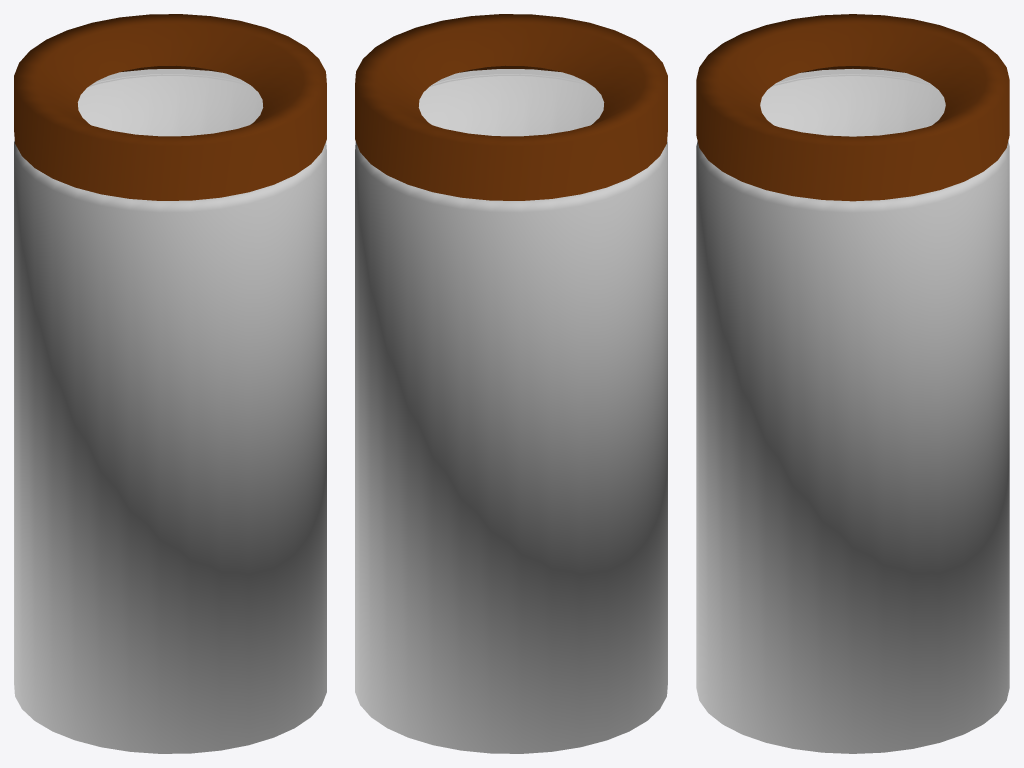
Rendered from lixeira organico.fbx.
3 views of the same model, side by side, from view 1: azimuth 30°, elevation 25°; view 2: azimuth 150°, elevation 25°; view 3: azimuth 270°, elevation 25° (orthographic).
Visible parts, largest first — view 1: Cylinder; view 2: Cylinder; view 3: Cylinder.
Part boxes in pixels (x1,y1,x2,y2): Cylinder: [14, 14, 326, 753]; Cylinder: [355, 14, 667, 753]; Cylinder: [696, 14, 1009, 753].
Size of the model in its own units: 200 by 428 by 200.
